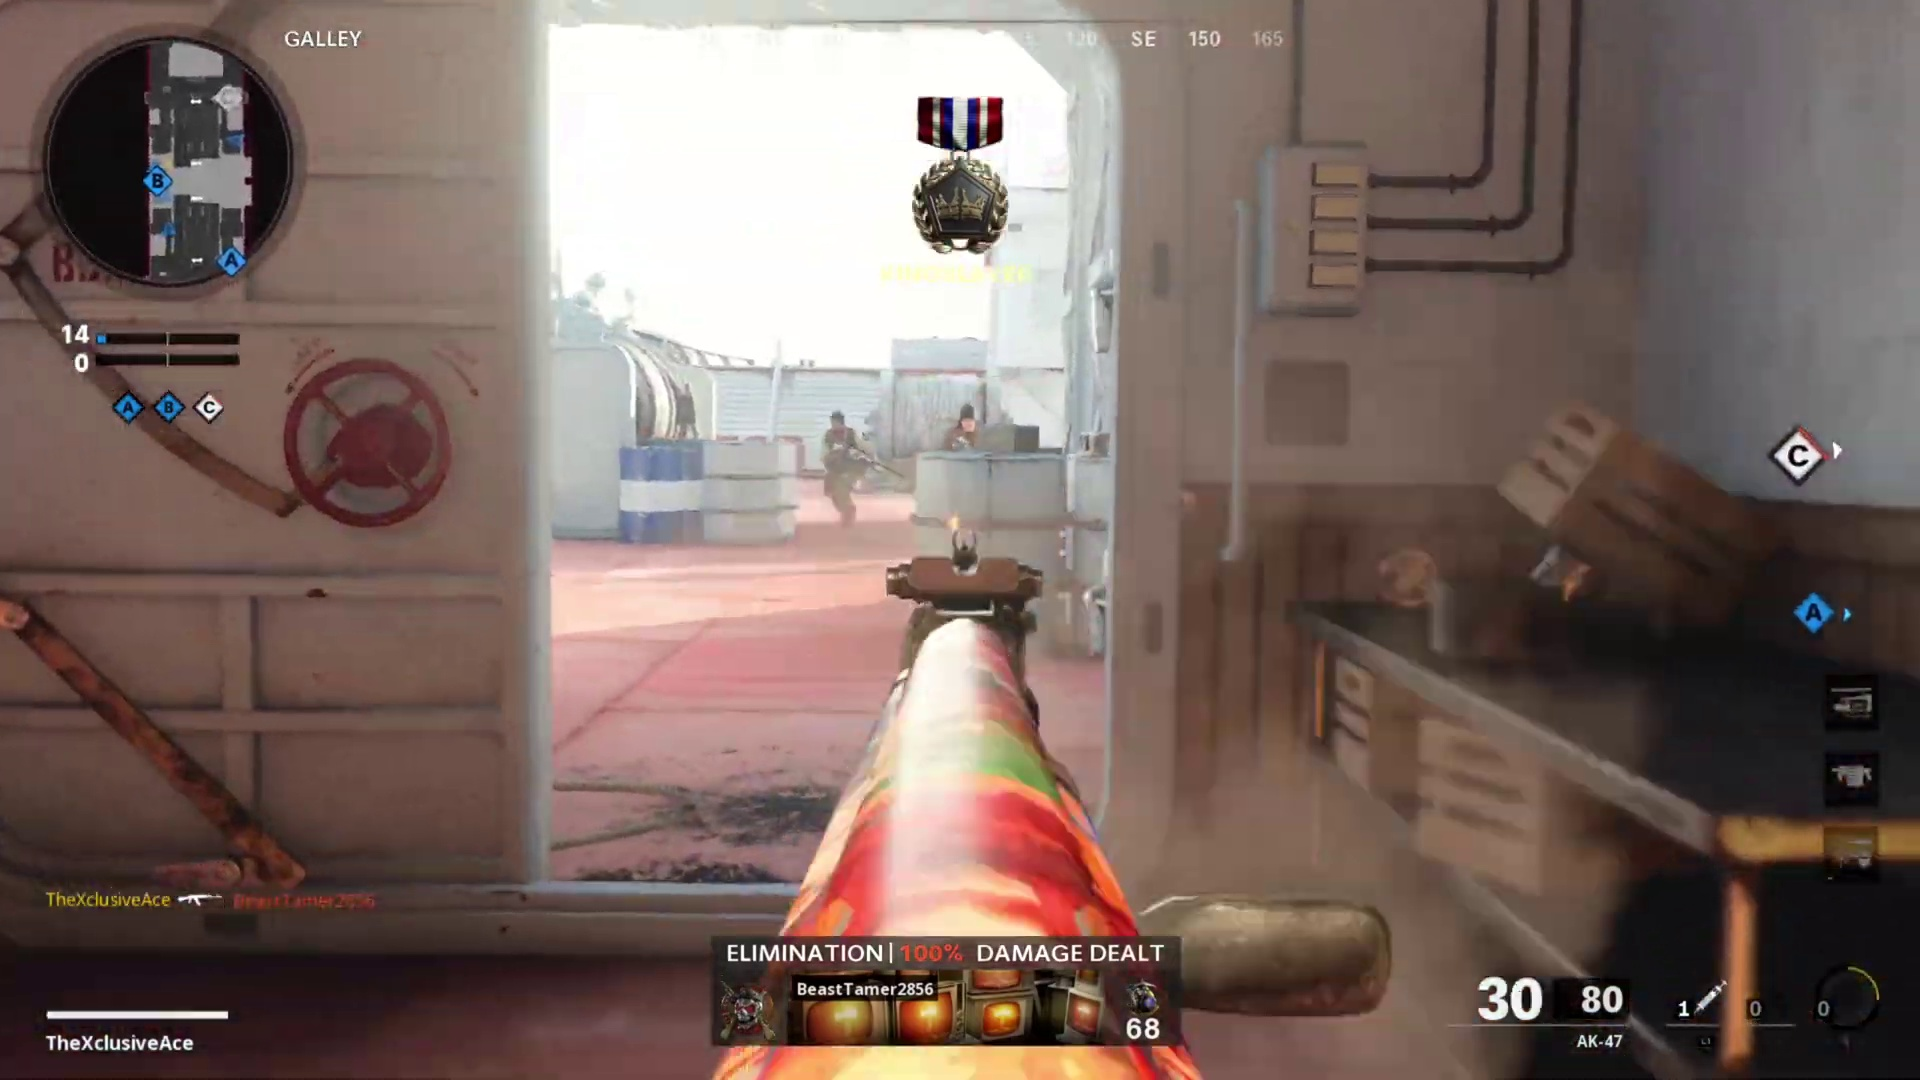head: (827, 409, 850, 439), (956, 403, 976, 435)
person: (817, 408, 873, 527), (944, 403, 975, 449)
